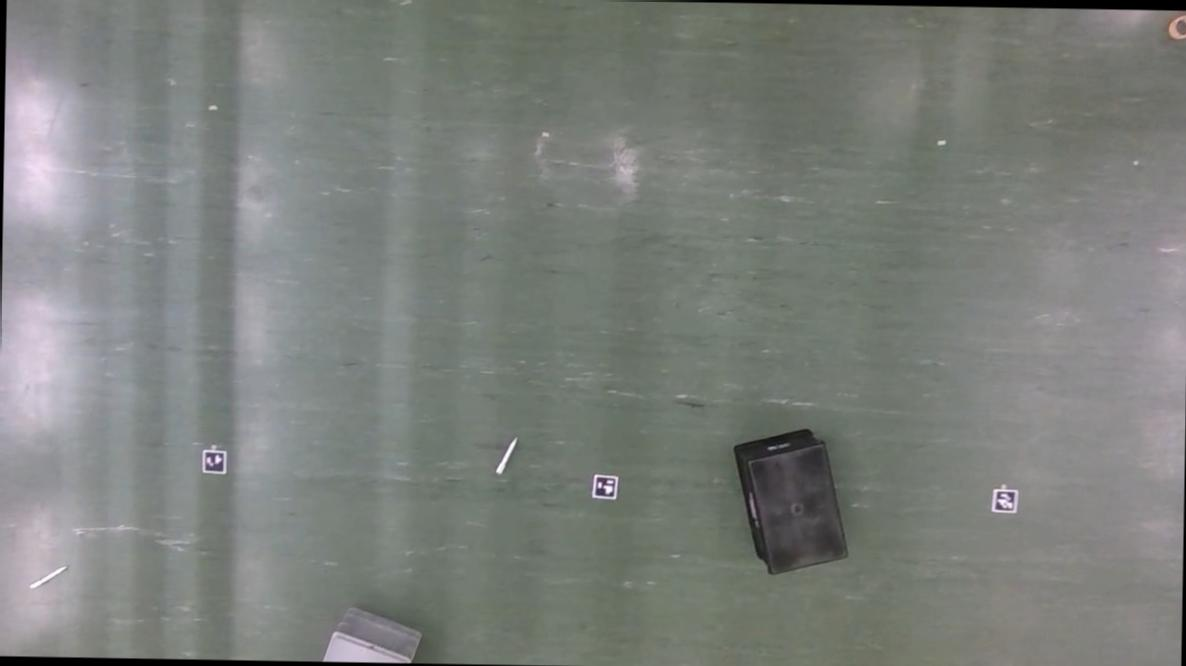probes: (32, 564, 64, 587), (496, 436, 514, 474)
rako: (730, 425, 849, 573)
